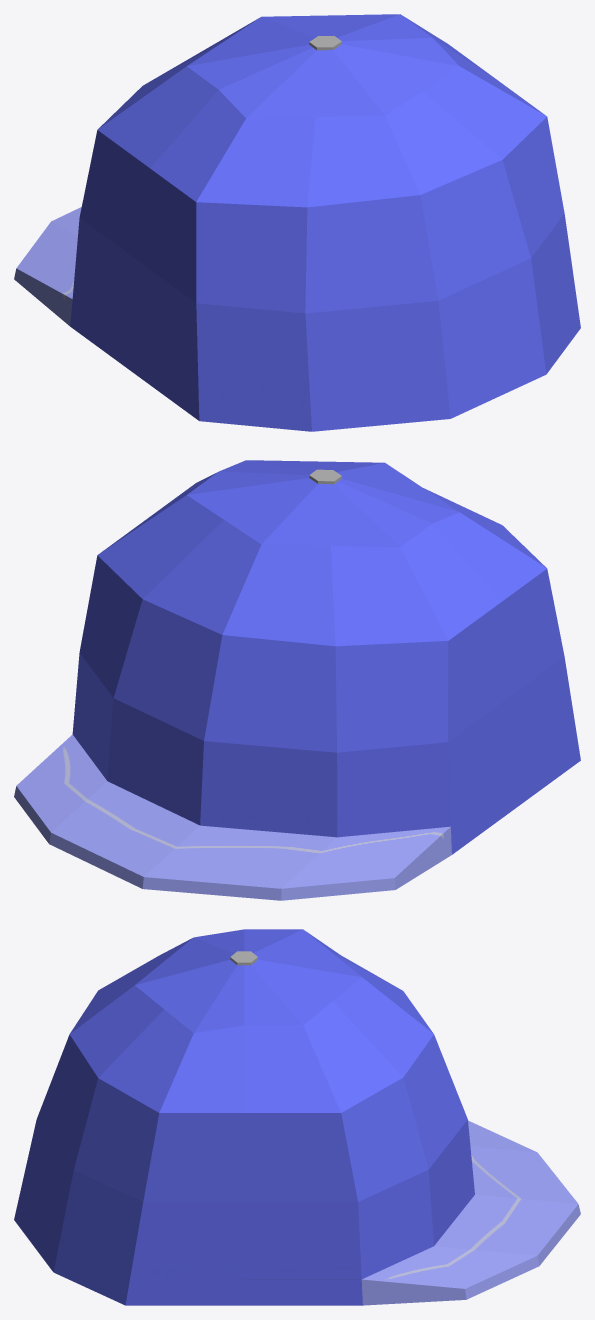
The model's file is gorra.fbx.
The picture shows the model from 3 angles, top to bottom: view 1: azimuth 30°, elevation 25°; view 2: azimuth 150°, elevation 25°; view 3: azimuth 270°, elevation 25°; orthographic projection. The views are drawn at different scales.
Visible parts, largest first — view 1: Sphere; view 2: Sphere; view 3: Sphere.
Boxes of the visible parts, left/top/right/bottom form: Sphere: left=14, top=14, right=580, bottom=431; Sphere: left=14, top=460, right=580, bottom=900; Sphere: left=14, top=929, right=580, bottom=1305.
Bounding box in the file's own units: 83.87 × 60 × 117.
Materials: 1 (1 with a texture image).
